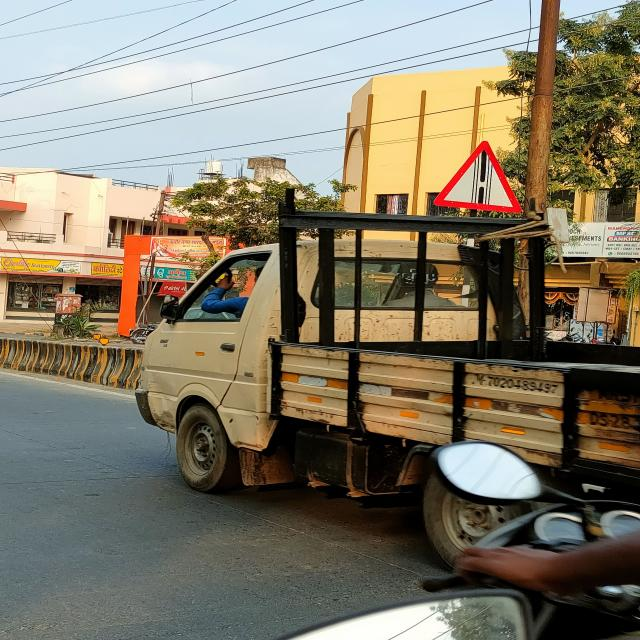GAP_IN_MEDIAN: (434, 140, 522, 213)
